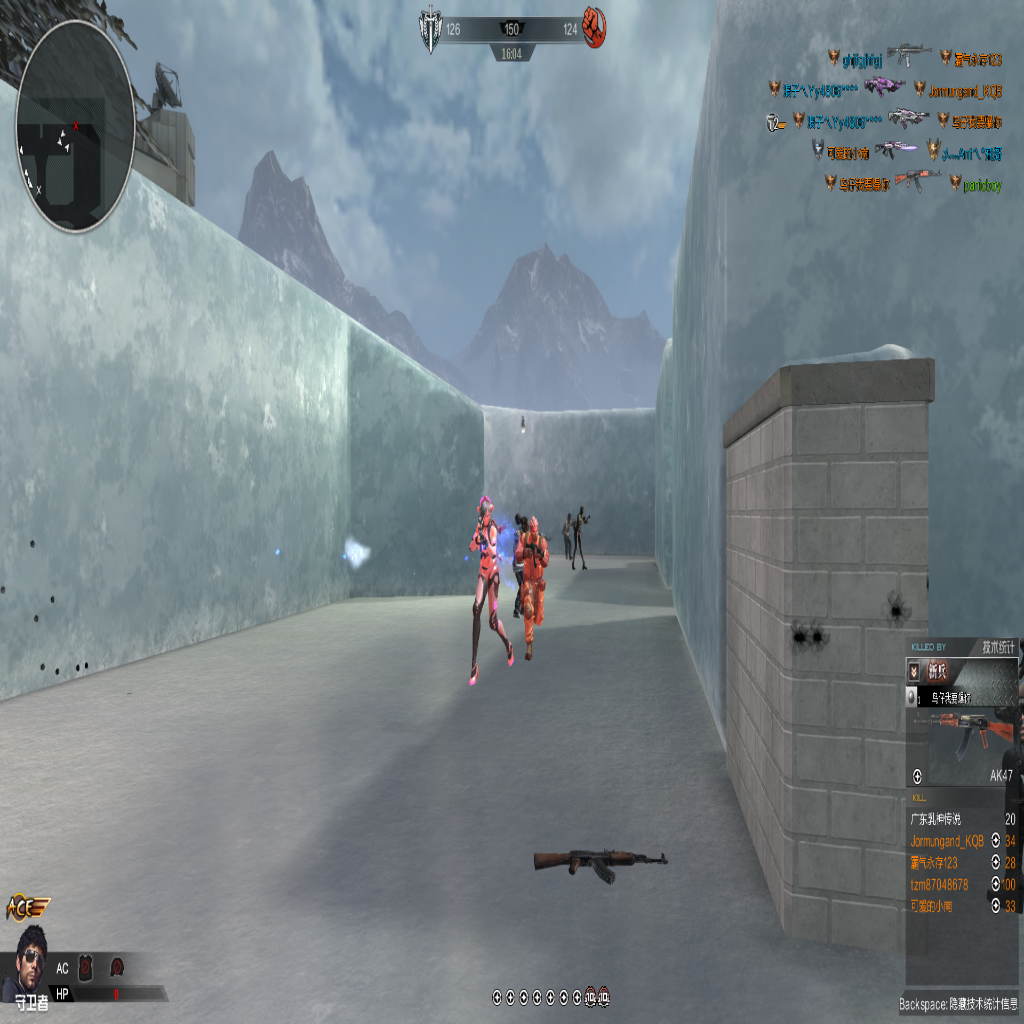tt: (468, 495, 514, 682), (515, 510, 547, 654), (573, 504, 589, 569), (561, 511, 572, 562)
